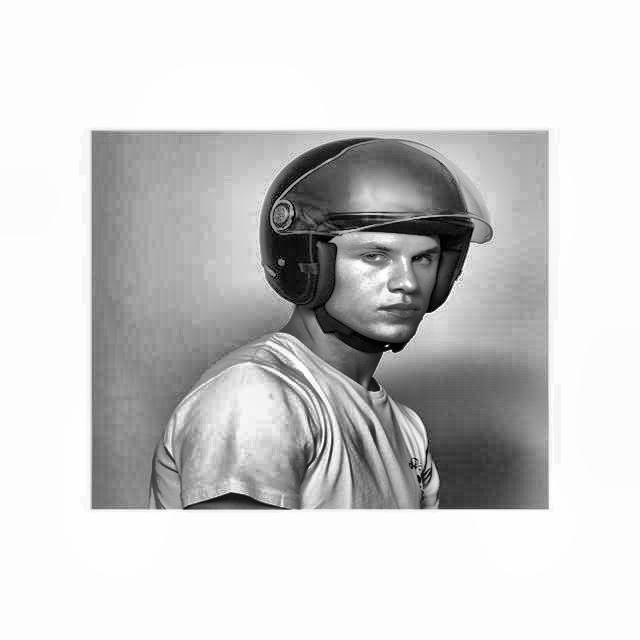Helmet: (248, 131, 504, 363)
